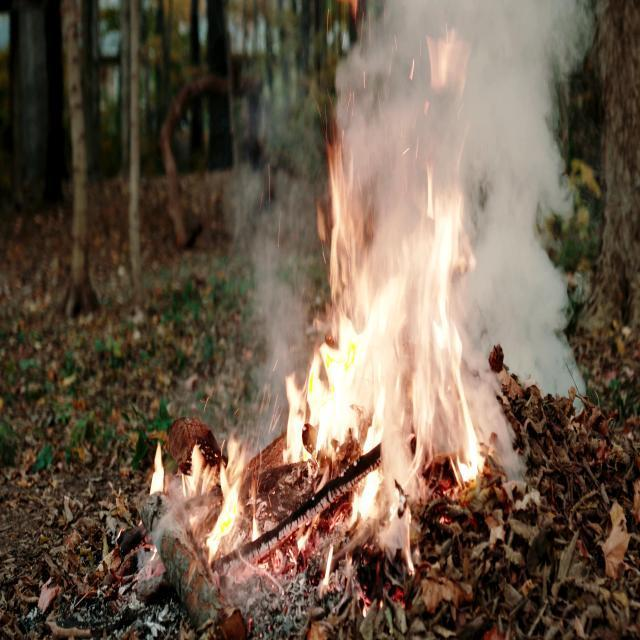Fire: (284, 165, 512, 581), (136, 410, 268, 608)
Smoke: (320, 0, 600, 337)
